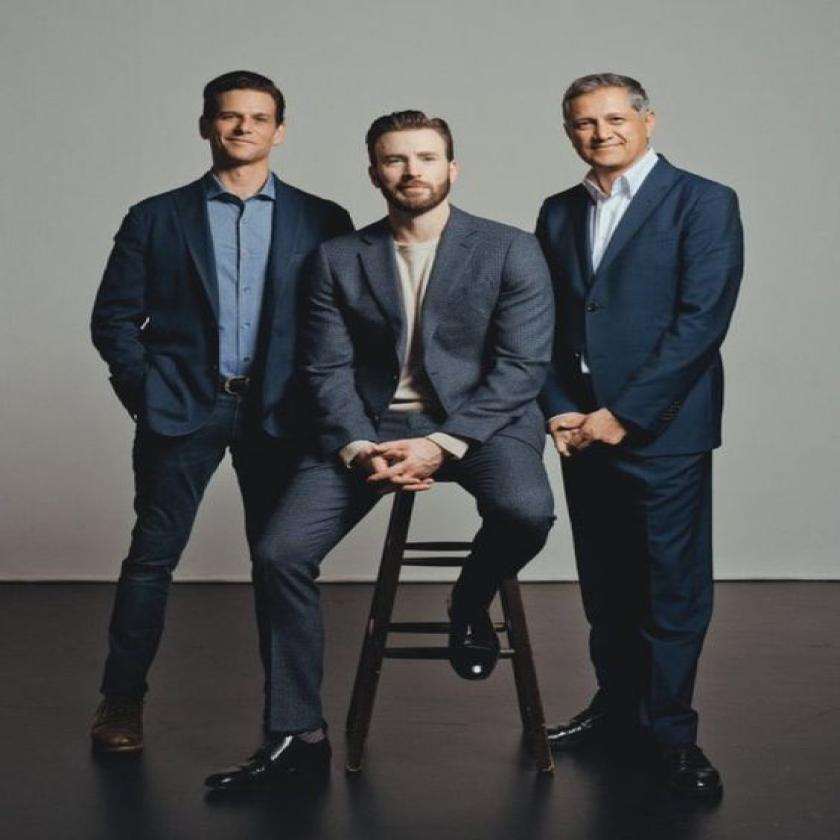Sin_casco: (542, 58, 712, 189), (341, 81, 482, 219), (184, 46, 296, 184)
